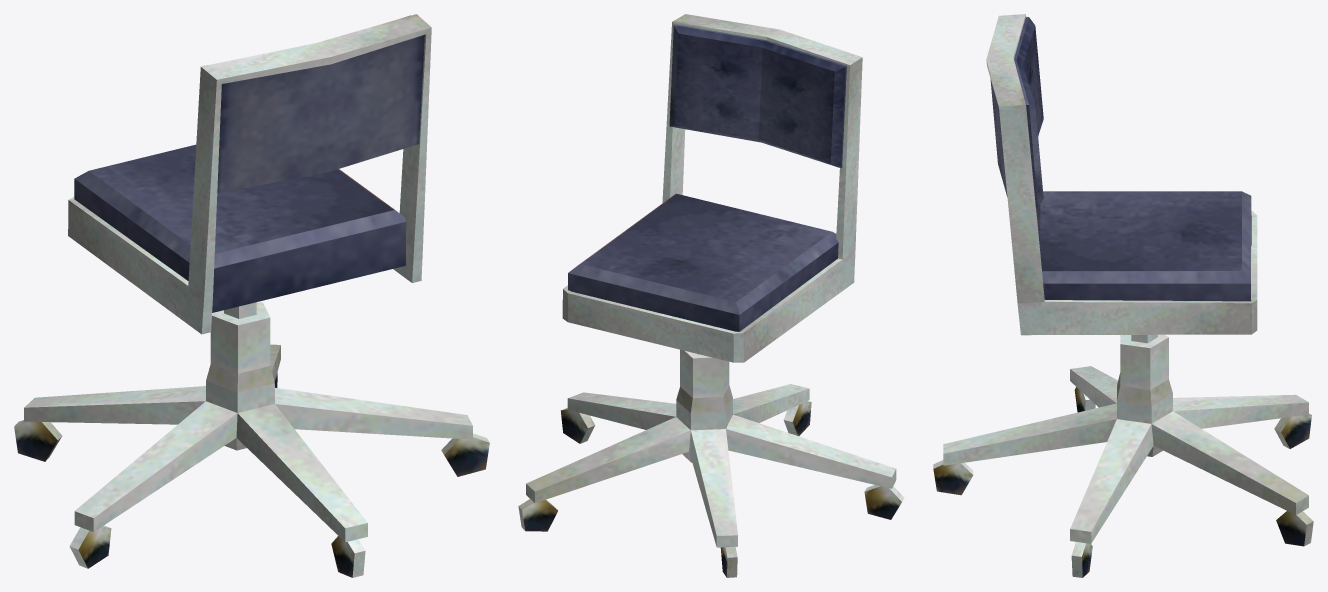
Rendered from office_chair_blue.obj.
3 renders of one model, left to right at view 1: azimuth 30°, elevation 25°; view 2: azimuth 150°, elevation 25°; view 3: azimuth 270°, elevation 25°, orthographic. The views are drawn at different scales.
Parts seen in each view (by area): view 1: office_chair_blue; view 2: office_chair_blue; view 3: office_chair_blue.
Boxes of the visible parts, x1=… form: office_chair_blue: x1=14, y1=14, x2=489, y2=577; office_chair_blue: x1=518, y1=14, x2=904, y2=577; office_chair_blue: x1=933, y1=14, x2=1313, y2=577.
Bounding box in the file's own units: 0.94 × 1.1 × 0.8617.
